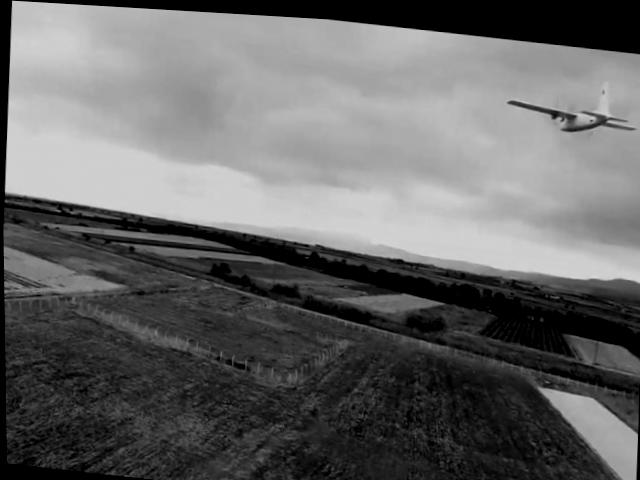hedef: (493, 64, 640, 142)
